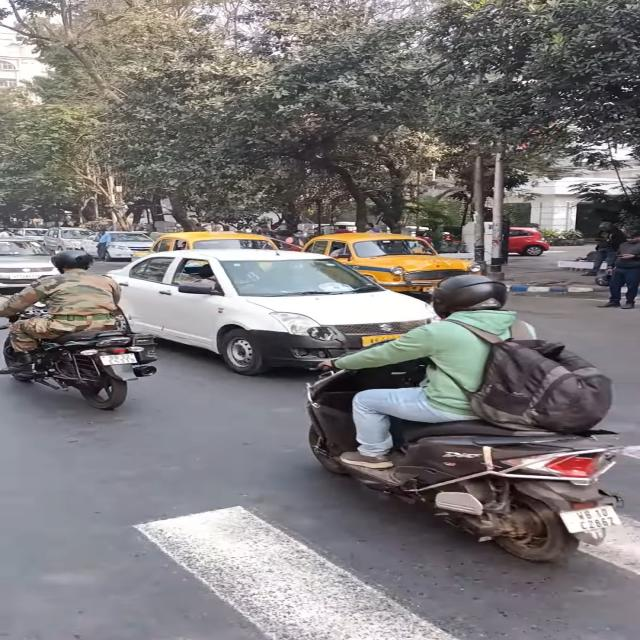Scooty: (269, 332, 630, 568)
